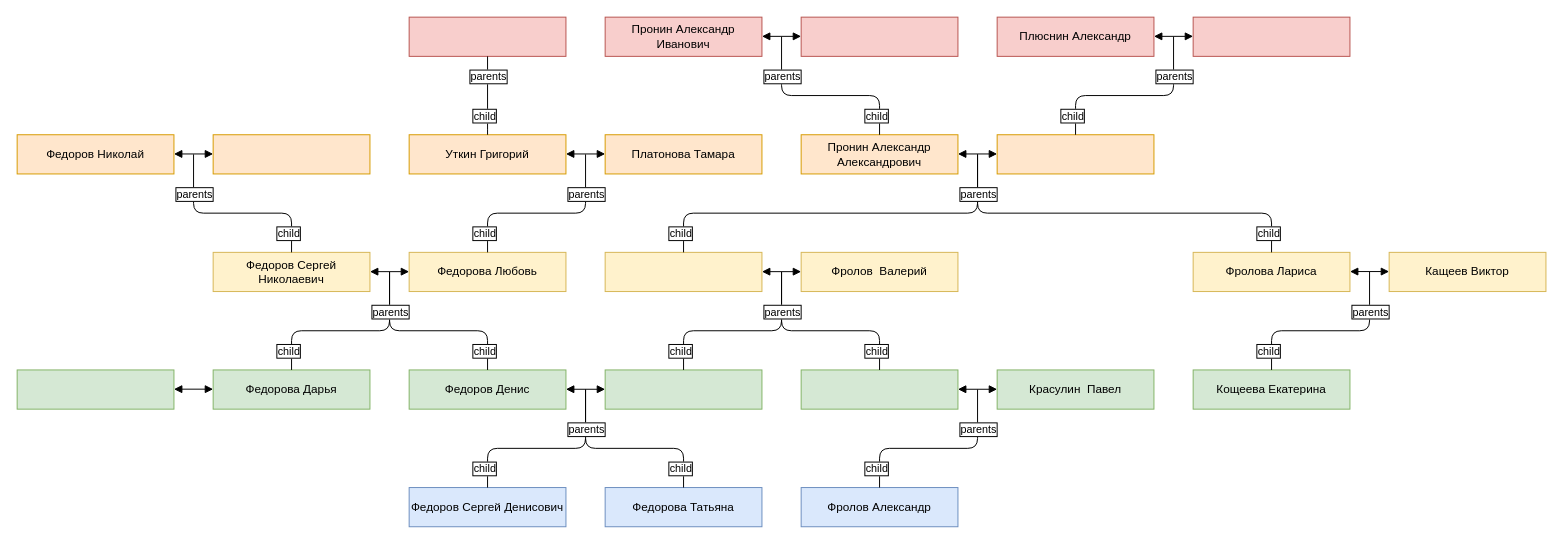
The diagram is 1563 pixels wide and 544 high, and some of its shapes have lost their labels. Here are the shapes that lost their labels. From the top down, the box of each, then its label:
(408, 16, 566, 56): Ермолаева Нина
(800, 16, 958, 56): Пронина Анна
(1192, 16, 1350, 56): Плюснина Анастасия
(212, 134, 370, 174): Федорова Лидия
(996, 134, 1154, 174): Пронина Милитина
(604, 251, 762, 292): Фролова Надежда
(16, 369, 174, 409): Певцов Евгений
(604, 369, 762, 409): Федорова Наталья
(800, 369, 958, 409): Фролова Анна
